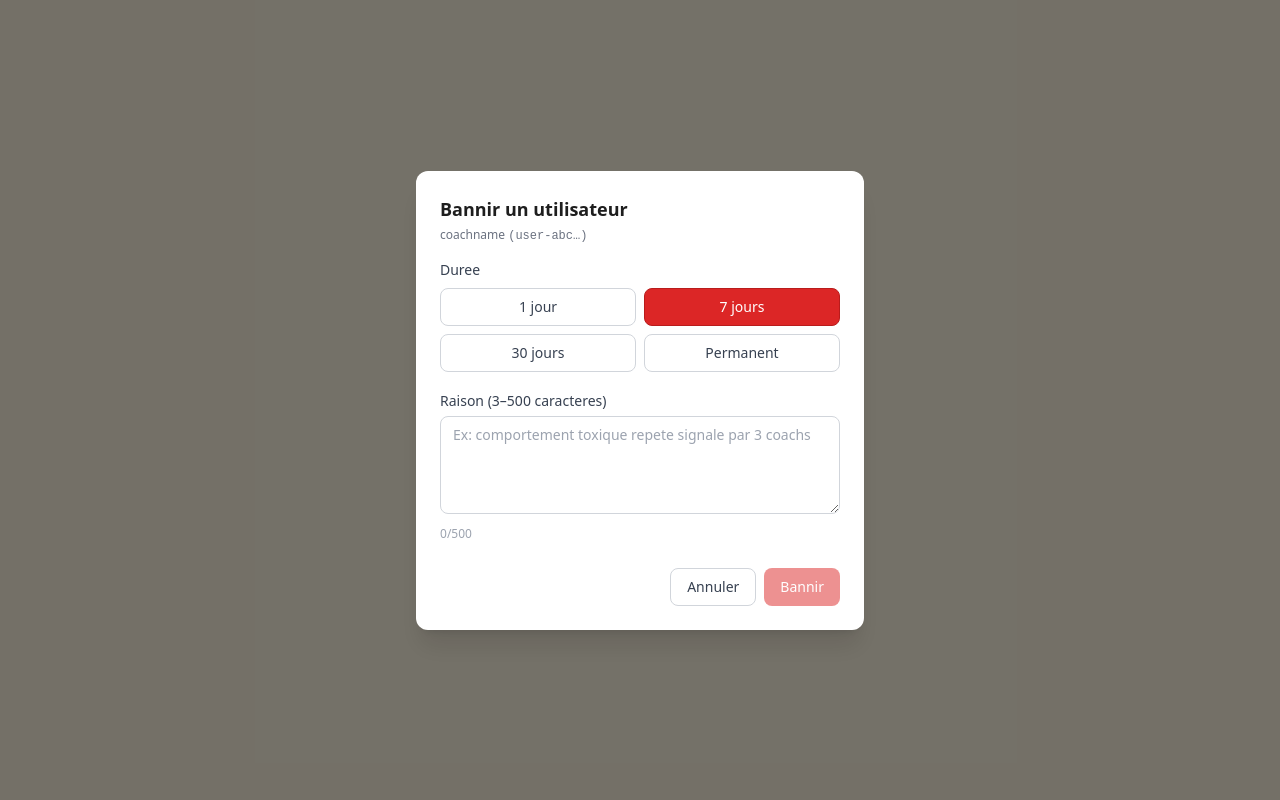
Scenario: BanUserModal (Lot P.B.4) › submit desactive tant que reason < 3 chars
The width and height of the screenshot is (1280, 800).
Expected: the button with test id "ban-submit" is disabled, [764,568,840,606]
Type "ab" into the text box with test id "ban-reason" at (640, 464), box [440,416,840,514]
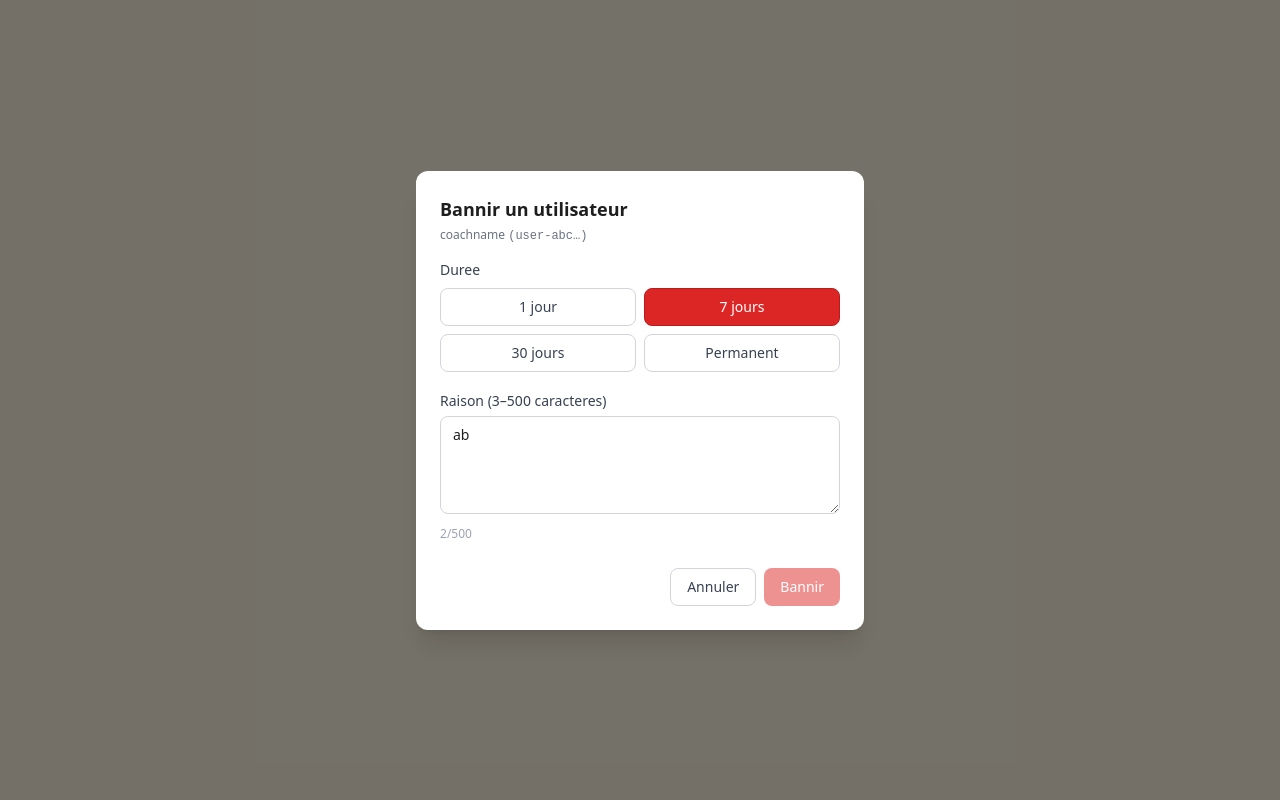
Expected: the button with test id "ban-submit" is disabled, [764,568,840,606]
Replace the text in the text box with test id "ban-reason" with "abc" at (640, 464), box [440,416,840,514]
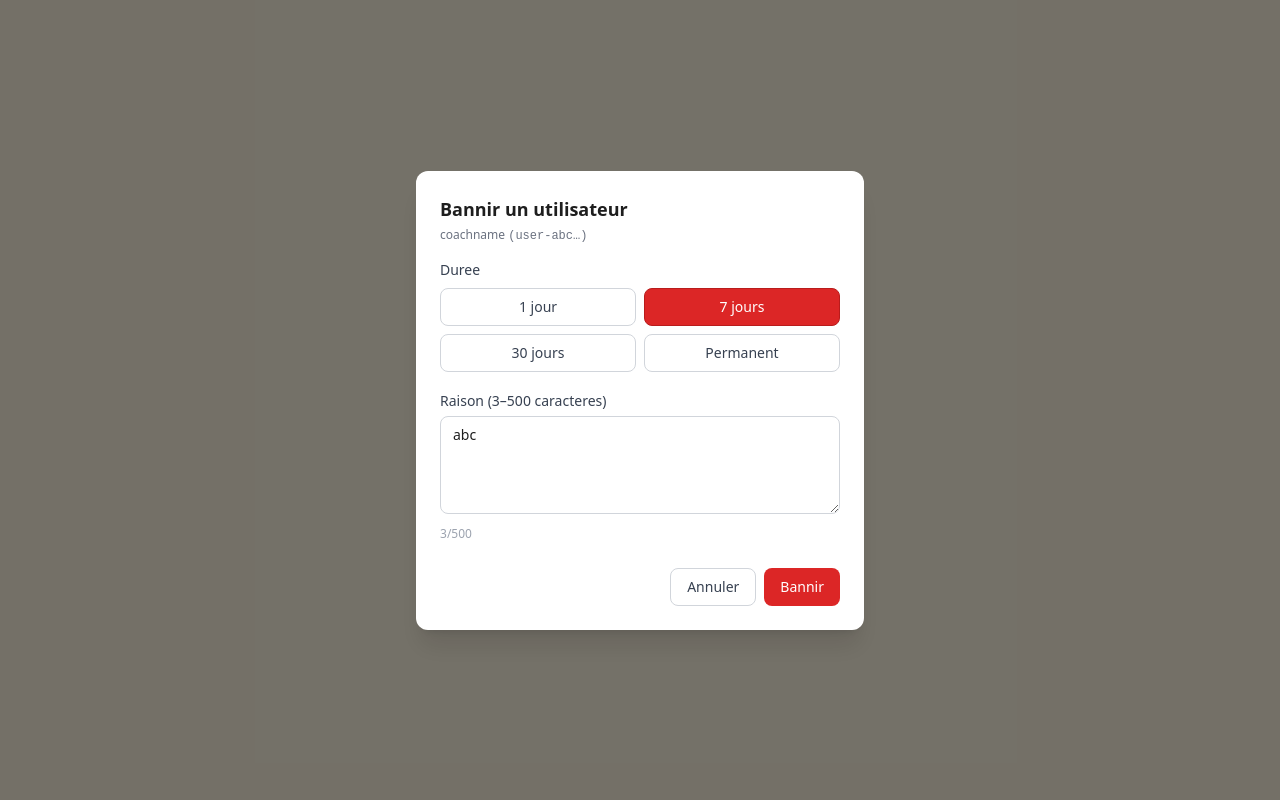
Now the button with test id "ban-submit" is enabled, box [764,568,840,606]
